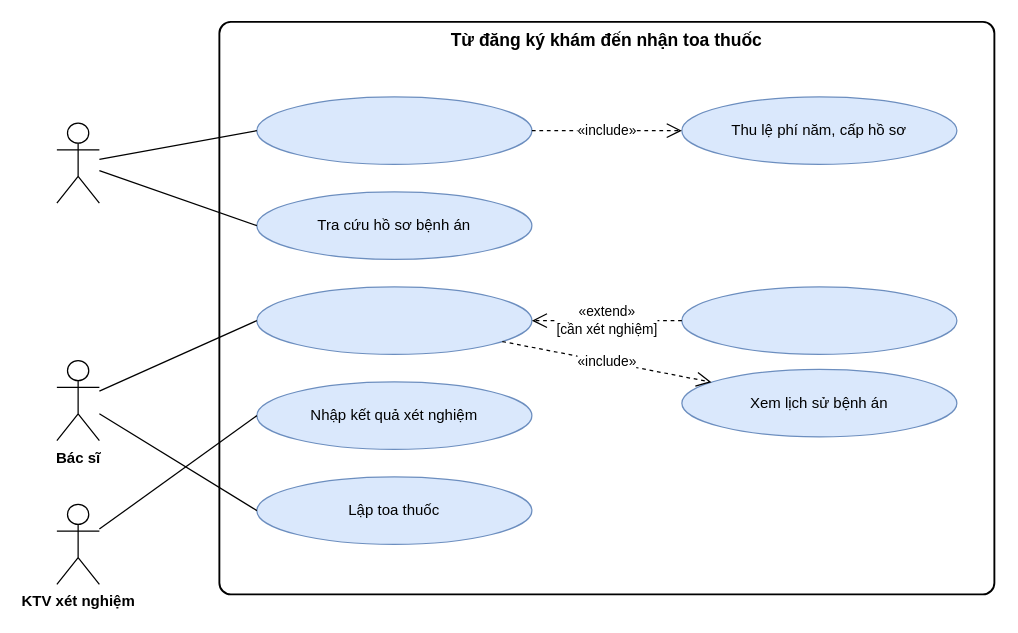
Image size: 1018x633. Some labels were removed from this diagram. Each missing label, with the centre of its shape:
Chỉ định xét nghiệm: the point at 819,320
Khám bệnh: the point at 394,320
Lập phiếu đăng ký: the point at 394,130
NV tiếp nhận: the point at 77,162
